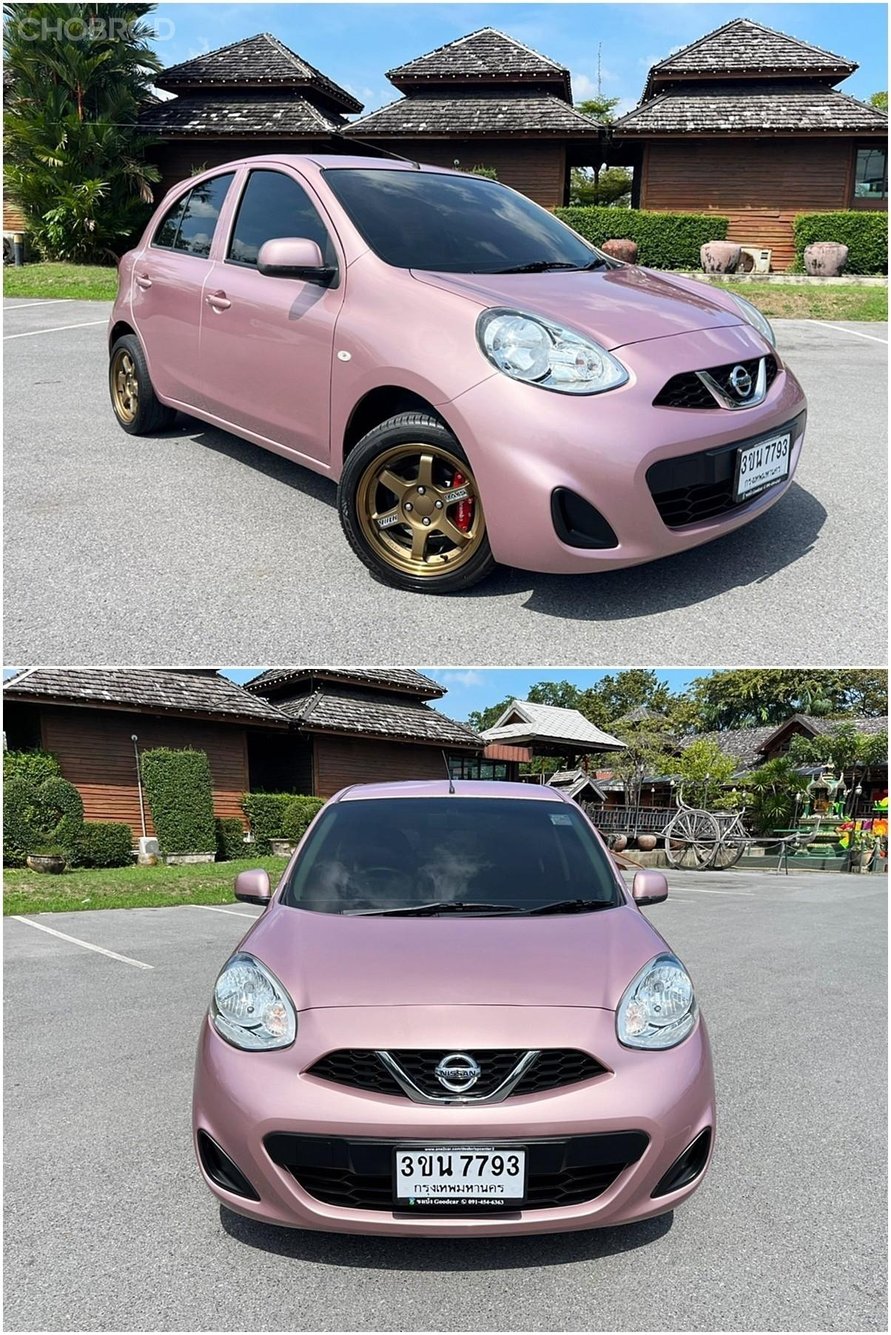license-plate: (371, 1132, 539, 1223), (711, 424, 816, 509)
